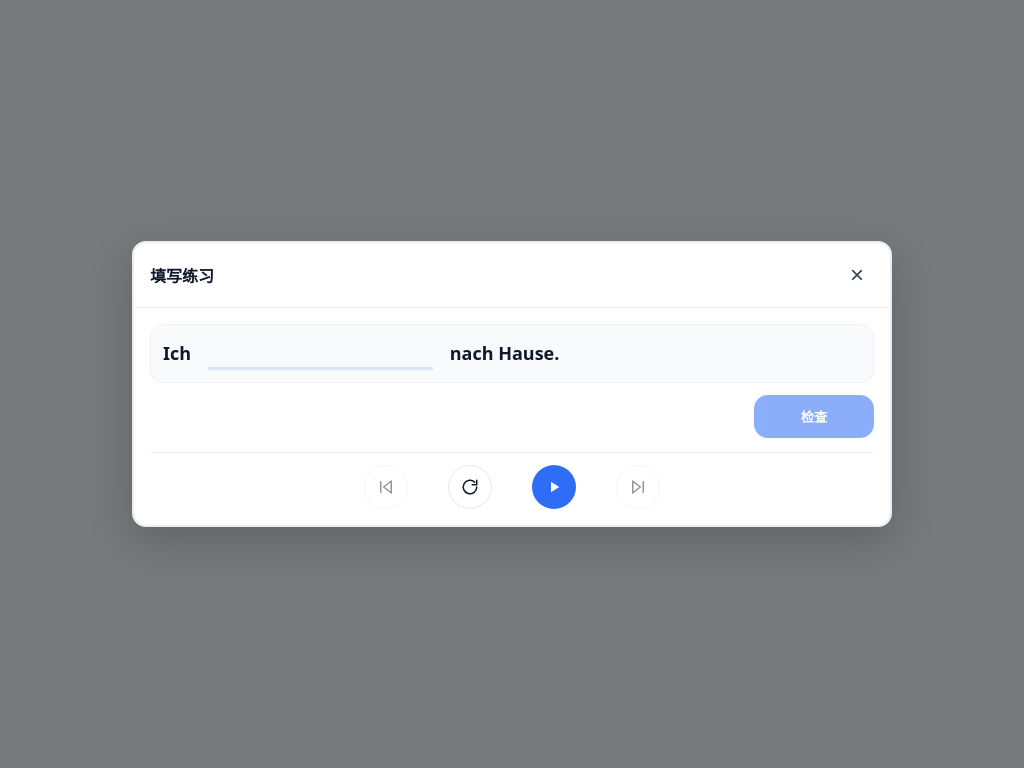
FillInExerciseModal automatic flow › keeps incorrect answers editable without feedback and does not advance on the last exercise
Type "laufe" into the field at x=320, y=356, box [208,342,433,370]
Wait 1500 ms
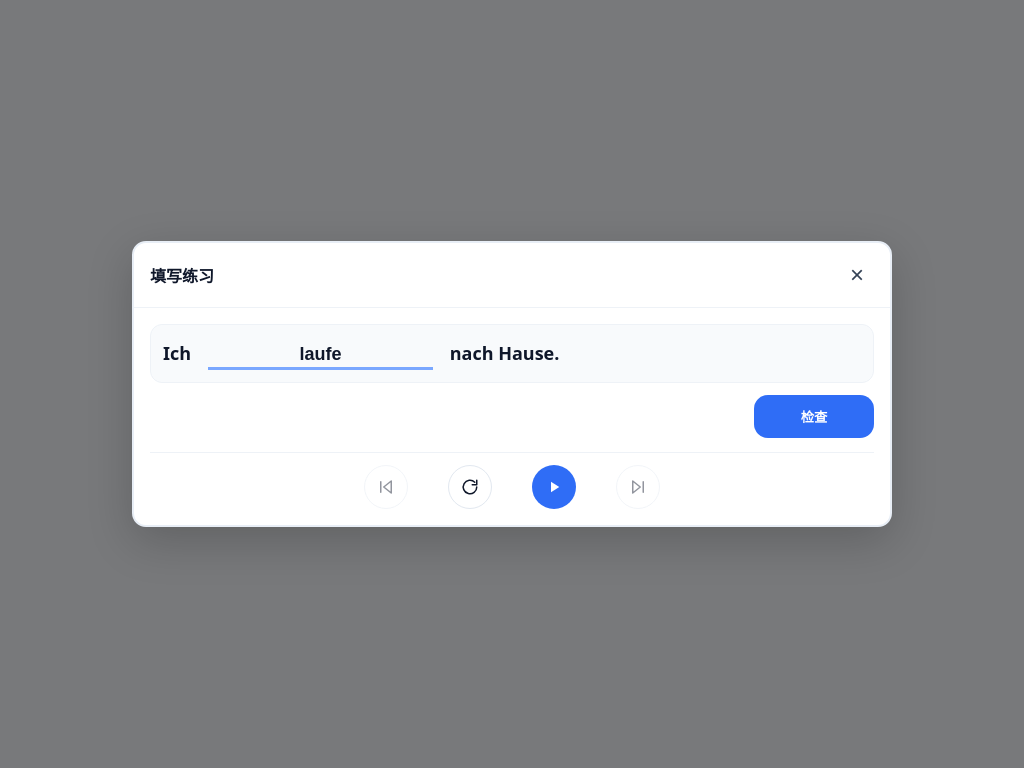
Expected: the text "✅ 全对了！" is not shown
Replace the text in the field with "gehe" at x=320, y=356, box [208,342,433,370]
Wait 2500 ms
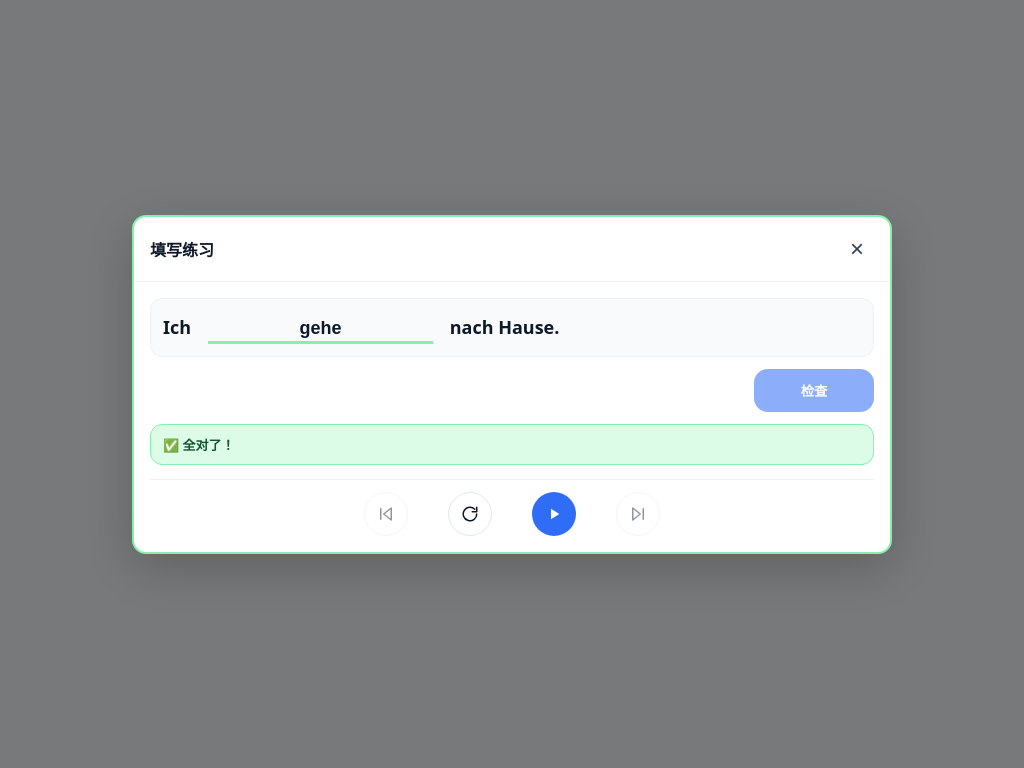
Now the text "✅ 全对了！" is shown, box [150,424,874,464]
